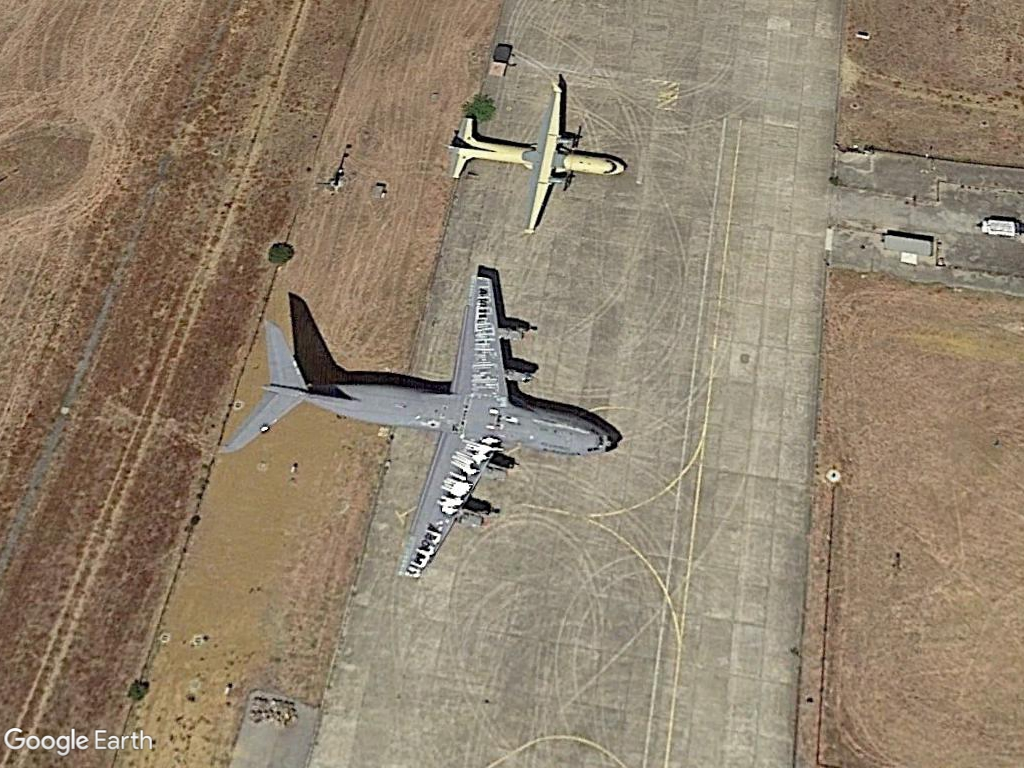propeller: (224, 247, 623, 585), (442, 61, 633, 237)
